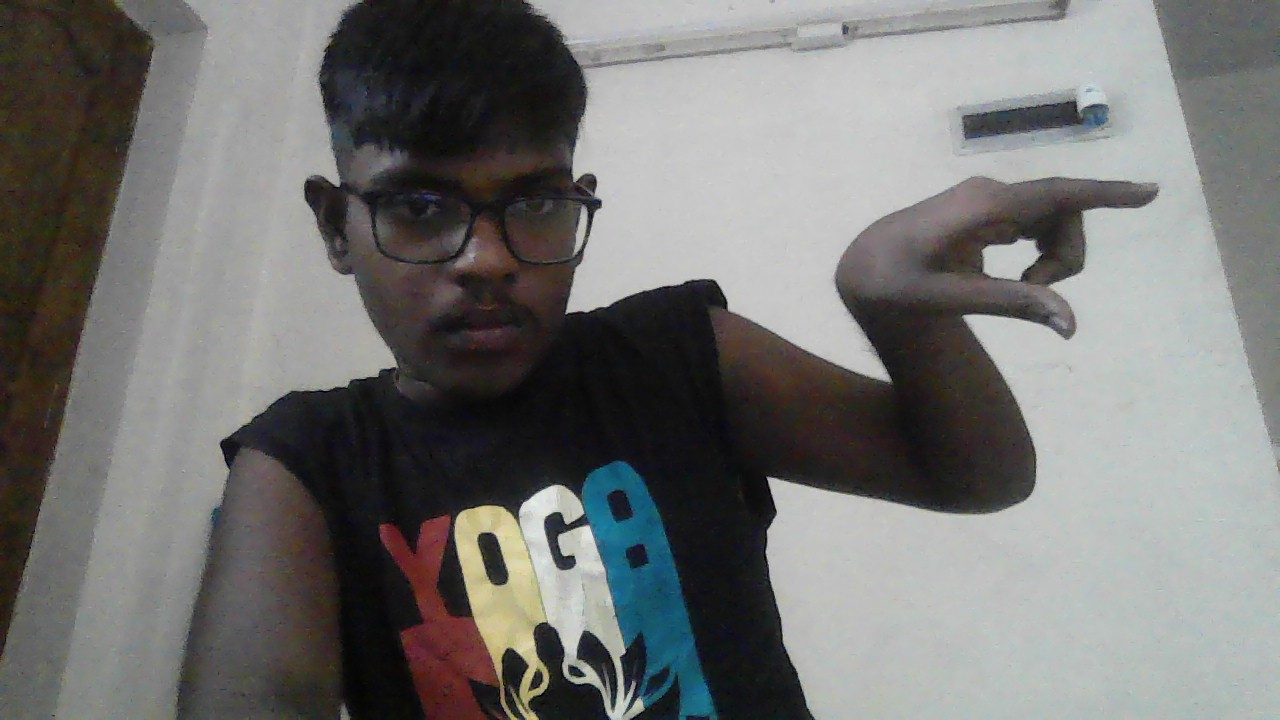Q: (839, 175, 1161, 341)
